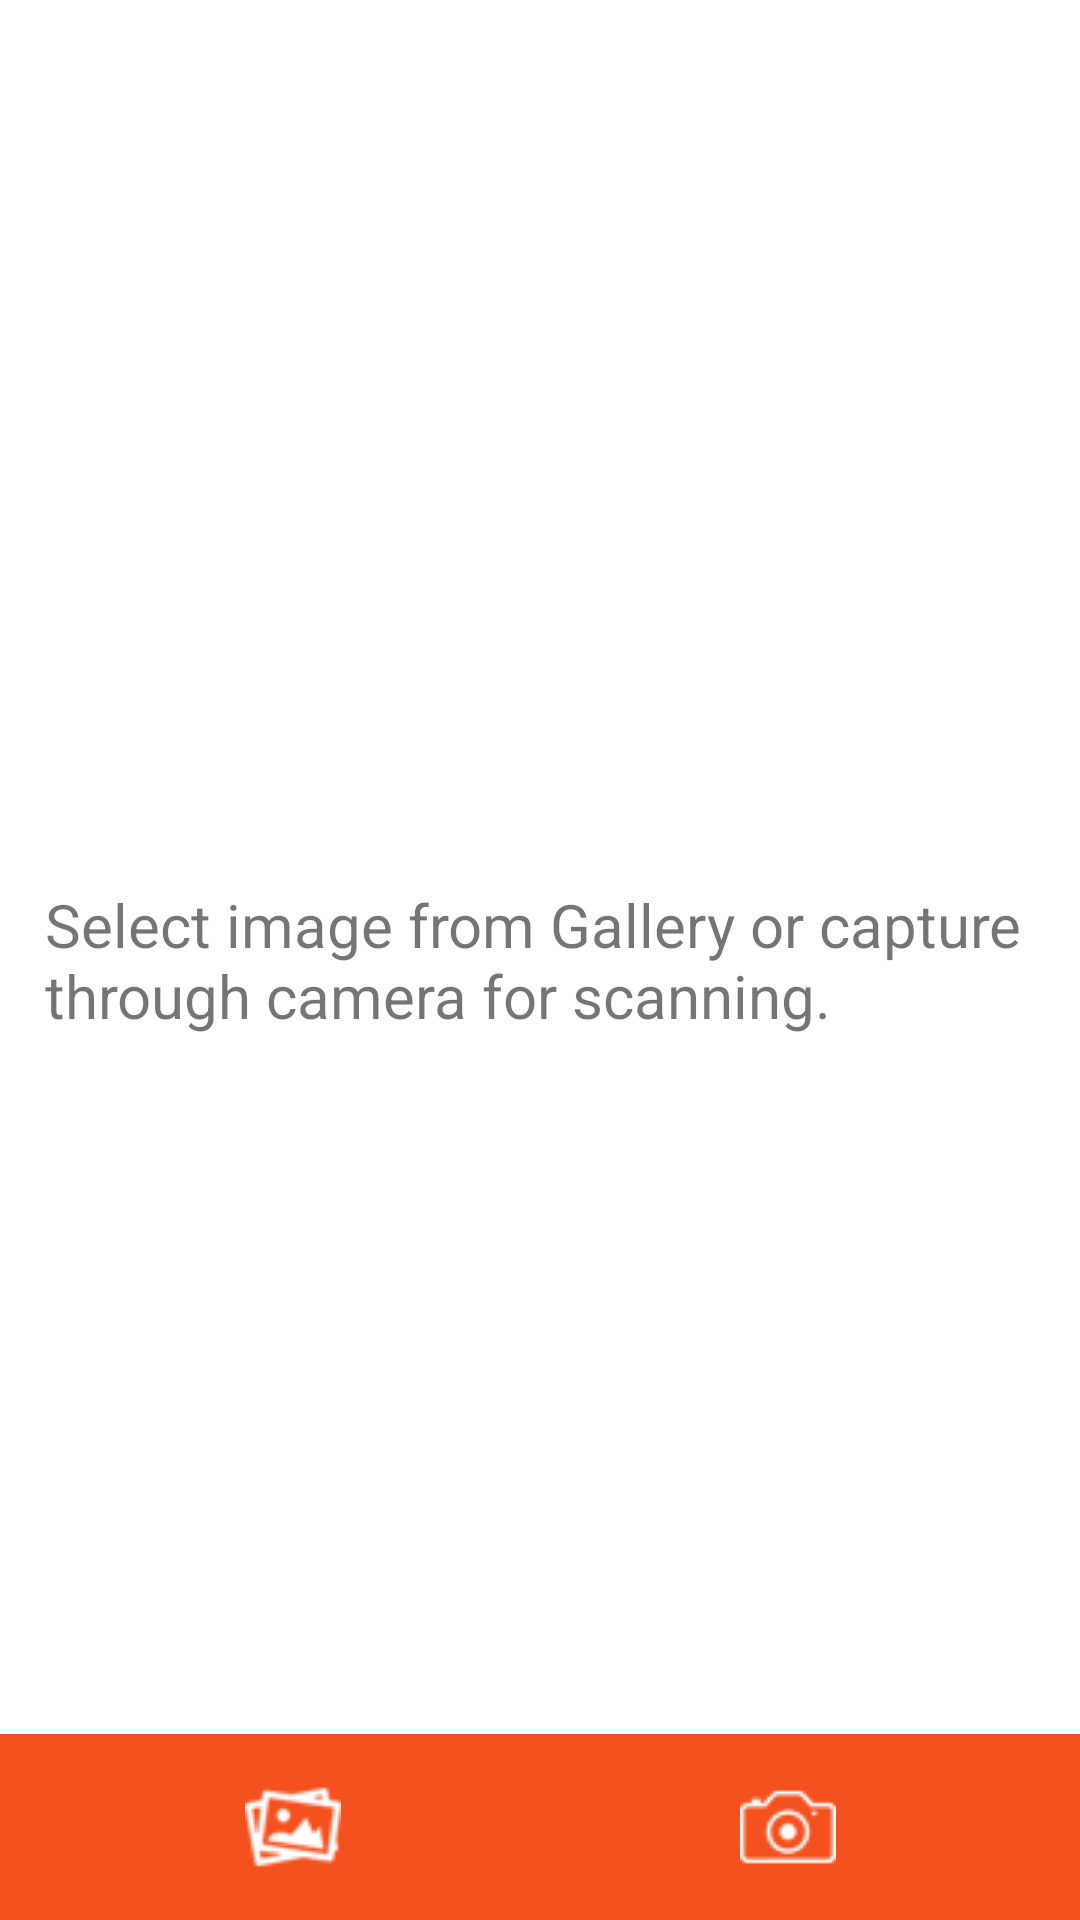

Icon click points for this 1080px x 1920px phone screenshot, format point (x, y):
camera: point (788, 1827)
gallery: point (293, 1827)
